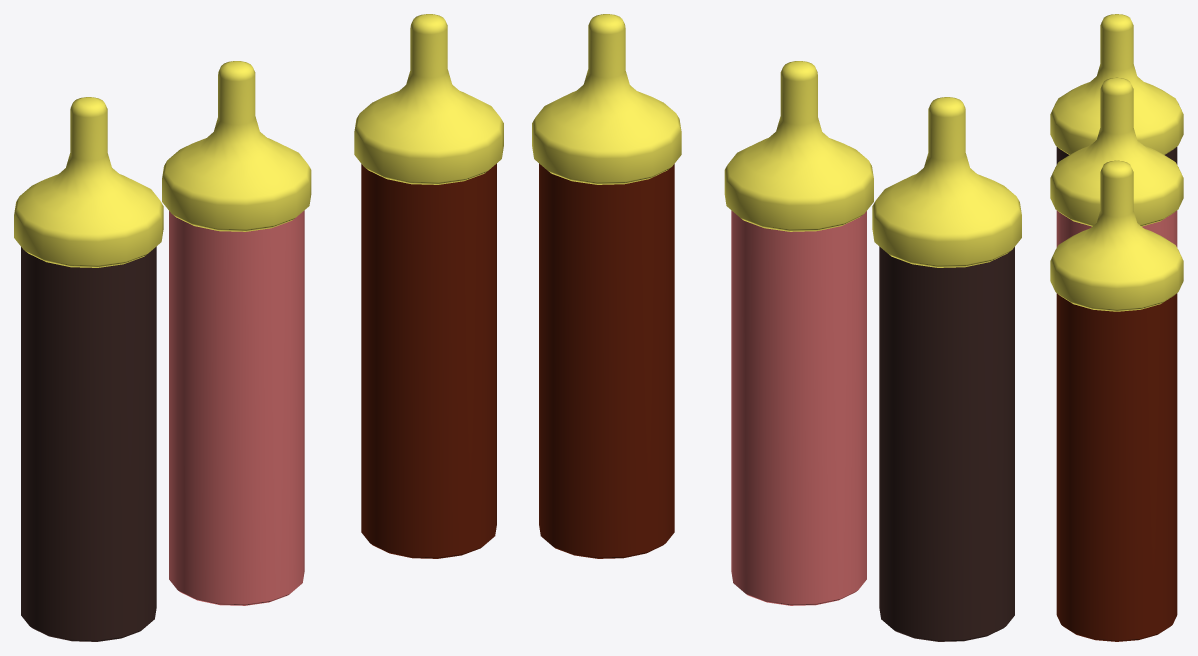
File: salsas.fbx
3 views of the same model, side by side, from view 1: azimuth 30°, elevation 25°; view 2: azimuth 150°, elevation 25°; view 3: azimuth 270°, elevation 25° (orthographic). The views are drawn at different scales.
Parts seen in each view (by area): view 1: Ketchup.001, Mustard, Ketchup; view 2: Ketchup.001, Mustard, Ketchup; view 3: Ketchup.001, Ketchup, Mustard.
Part boxes in pixels (x1=…): Ketchup.001: x1=354, y1=14, x2=503, y2=558; Mustard: x1=14, y1=97, x2=163, y2=641; Ketchup: x1=162, y1=61, x2=311, y2=605; Ketchup.001: x1=532, y1=14, x2=681, y2=558; Mustard: x1=872, y1=97, x2=1021, y2=641; Ketchup: x1=724, y1=61, x2=873, y2=605; Ketchup.001: x1=1050, y1=160, x2=1183, y2=641; Ketchup: x1=1050, y1=77, x2=1183, y2=247; Mustard: x1=1050, y1=14, x2=1183, y2=164.
Size of the model in its own units: 220 by 229 by 60.95.
